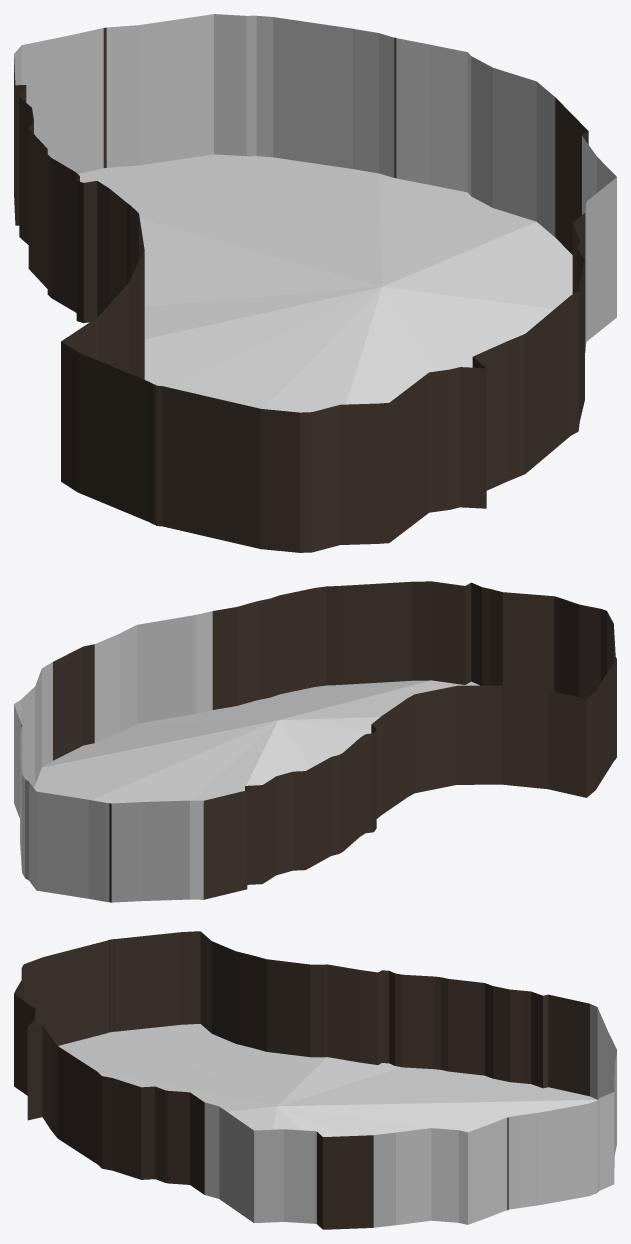
File: SeeTest.fbx
3 renders of one model, top to bottom at view 1: azimuth 30°, elevation 25°; view 2: azimuth 150°, elevation 25°; view 3: azimuth 270°, elevation 25°, orthographic. The views are drawn at different scales.
Visible parts, largest first — view 1: Plane.004, Plane.006; view 2: Plane.004, Plane.006; view 3: Plane.004, Plane.006.
Boxes of the visible parts, x1=… form: Plane.004: x1=14, y1=14, x2=616, y2=552; Plane.006: x1=78, y1=154, x2=572, y2=412; Plane.004: x1=14, y1=581, x2=616, y2=902; Plane.006: x1=33, y1=680, x2=479, y2=803; Plane.004: x1=14, y1=931, x2=616, y2=1229; Plane.006: x1=58, y1=1024, x2=597, y2=1136.
Size of the model in its own units: 1998 by 563 by 2525.
